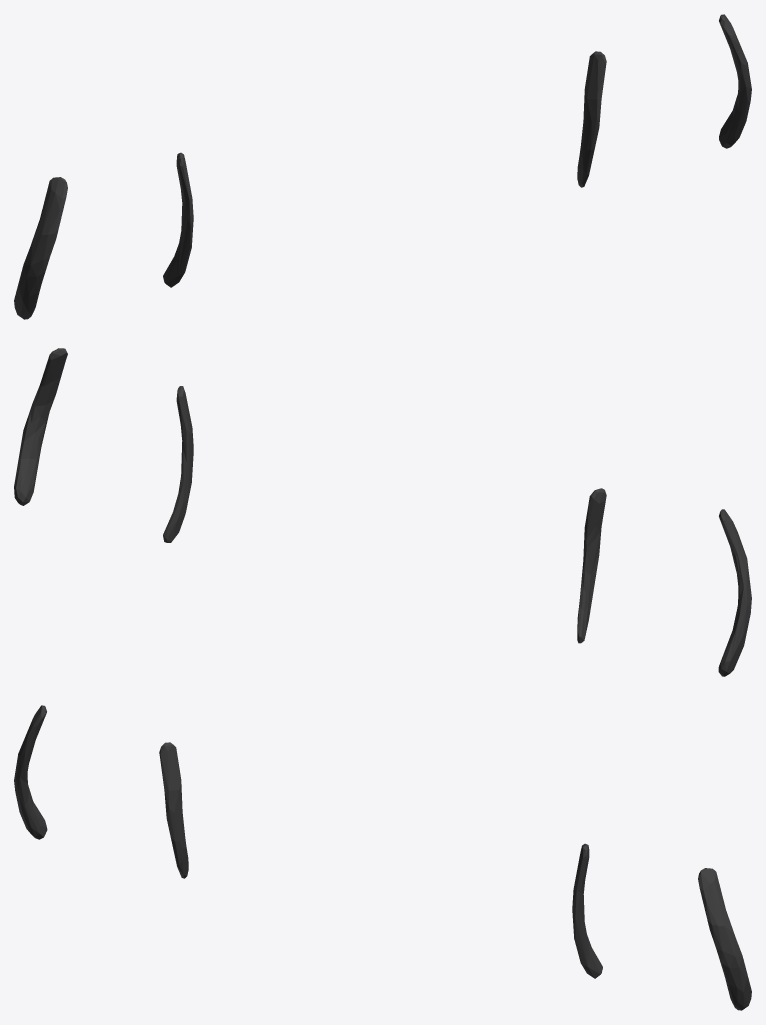
The model's file is lig_collateral_navicular_FL.glb.
The picture shows the model from 3 angles, top to bottom: view 1: azimuth 30°, elevation 25°; view 2: azimuth 150°, elevation 25°; view 3: azimuth 330°, elevation 25°; orthographic projection.
Parts seen in each view (by area): view 1: lig_collateral_navicular_FL; view 2: lig_collateral_navicular_FL; view 3: lig_collateral_navicular_FL.
Part boxes in pixels (x1=…): lig_collateral_navicular_FL: x1=14, y1=14, x2=751, y2=319; lig_collateral_navicular_FL: x1=14, y1=348, x2=751, y2=676; lig_collateral_navicular_FL: x1=14, y1=705, x2=751, y2=1010.
Bounding box in the file's own units: 0.00426 × 0.000858 × 0.000307.
Materials: 1 (1 with a texture image).
